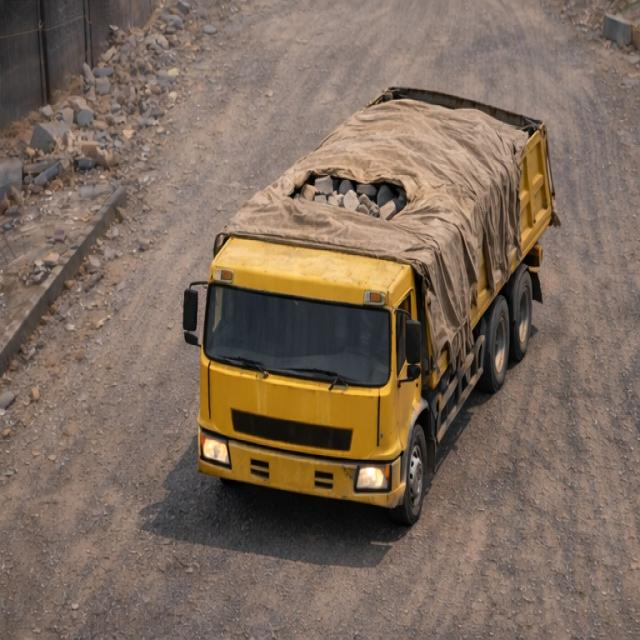trailer: (244, 83, 549, 257)
truck: (181, 63, 592, 526)
